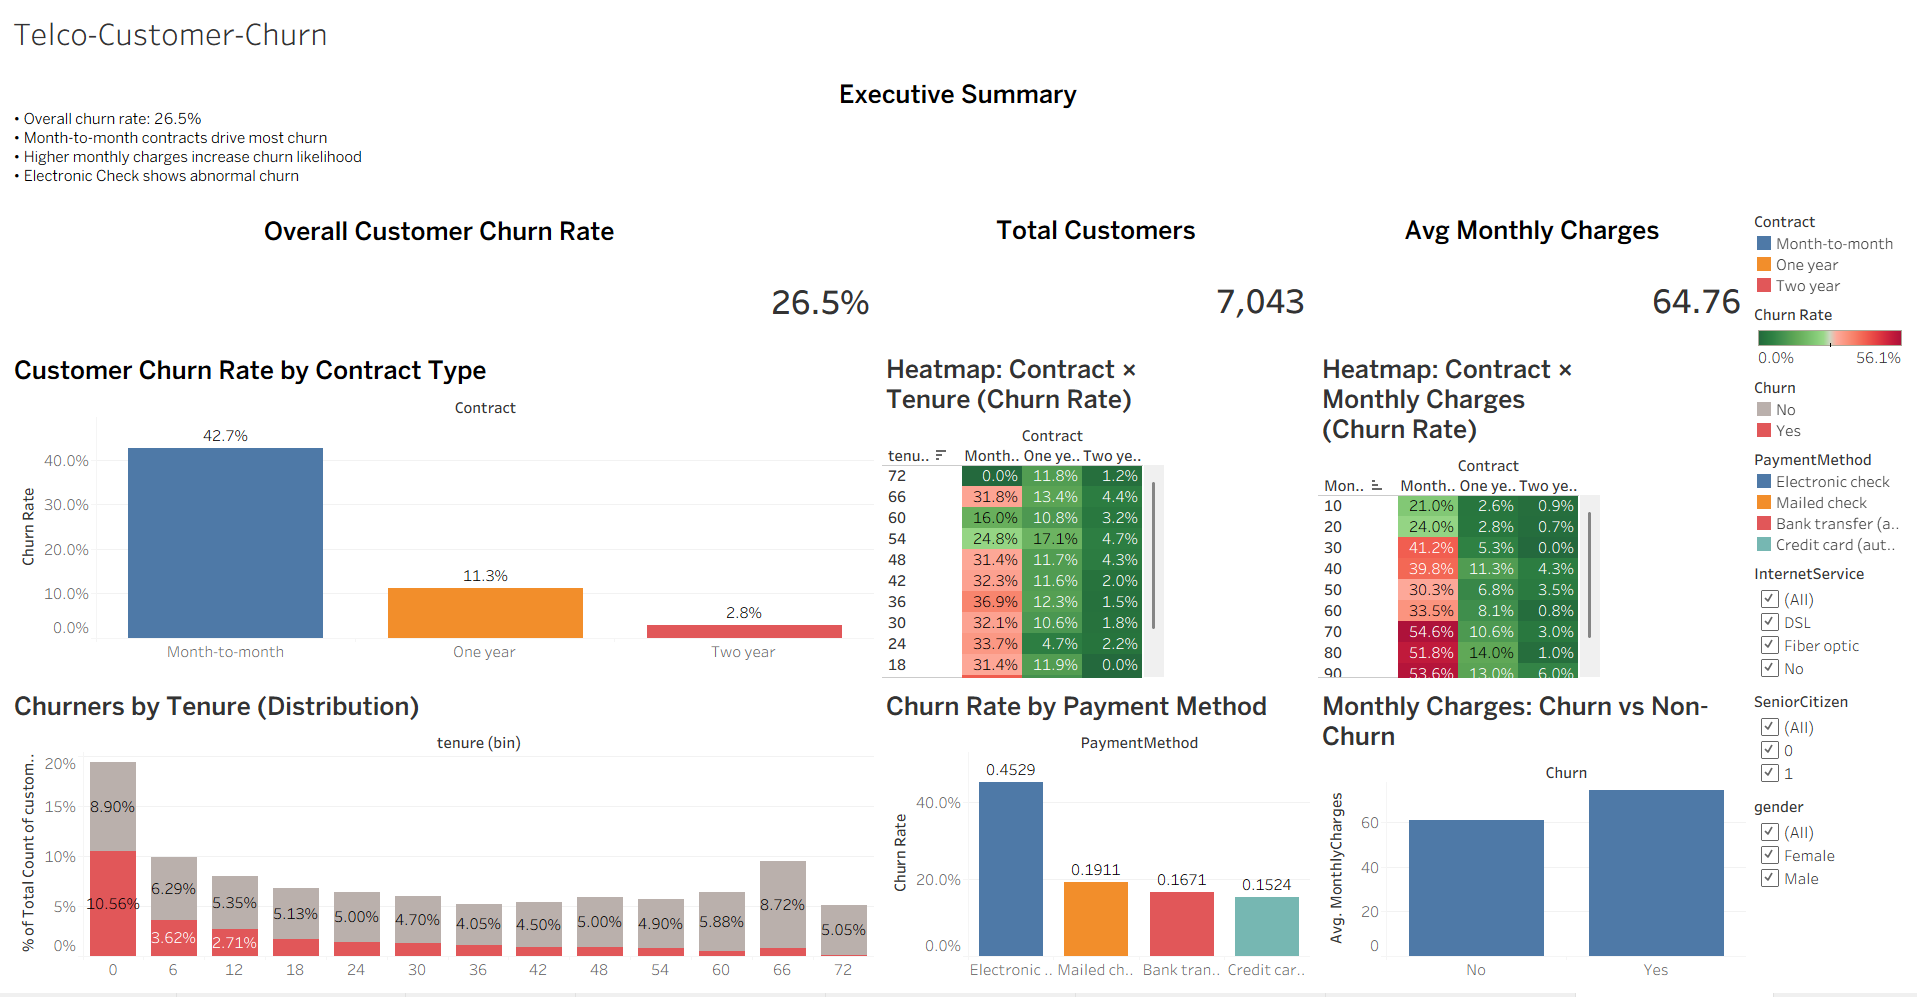

What the dashboard file says about the page in this screenshot:
{"tool":"tableau","page":{"name":"Telco-Customer-Churn","canvas":[1000,1000],"units":"permille","ordinal":0},"visuals":[{"type":"title","box":[4.8,10,990.3,62.4]},{"type":"text","box":[4.8,72.4,990.3,147.3]},{"type":"worksheet","title":"Overall Customer Churn Rate","mark":"Automatic","box":[4.8,219.7,446.9,138.3]},{"type":"worksheet","title":"Total Customers","mark":"Automatic","box":[451.7,219.7,223.4,138.3]},{"type":"worksheet","title":"Avg Monthly Charges","mark":"Automatic","box":[675.2,219.7,223.5,138.3]},{"type":"legend","title":"Churn Rate by Contract","param":"[federated.1b2qksb0qjrmqj1e6p0uq031gz32].[none:Contract:nk]","box":[898.6,219.7,96.6,116.1]},{"type":"legend","title":"Heatmap: Contract × Tenure (Churn Rate)","param":"[federated.1b2qksb0qjrmqj1e6p0uq031gz32].[usr:Calculation_0204810516328448:qk]","box":[898.6,335.8,96.6,91.1]},{"type":"worksheet","title":"Churn Rate by Contract","mark":"Automatic","rows":["Calculation_0204810516328448"],"cols":["Contract"],"box":[4.8,358,446.9,332.8]},{"type":"worksheet","title":"Heatmap: Contract × Tenure (Churn Rate)","mark":"Square","rows":["tenure (bin)"],"cols":["Contract"],"box":[451.7,358,223.4,332.8]},{"type":"worksheet","title":"Heatmap: Contract × Monthly Charges (Churn Rate)","mark":"Square","rows":["MonthlyCharges (bin)"],"cols":["Contract"],"box":[675.2,358,223.5,332.8]},{"type":"legend","title":"Churners by Tenure (Distribution)","param":"[federated.1b2qksb0qjrmqj1e6p0uq031gz32].[none:Churn:nk]","box":[898.6,427,96.6,89.9]},{"type":"legend","title":"Churn Rate by Payment Method","param":"[federated.1b2qksb0qjrmqj1e6p0uq031gz32].[none:PaymentMethod:nk]","box":[898.6,516.9,96.6,118.3]},{"type":"filter","title":"Churn Rate by Contract","param":"[federated.1b2qksb0qjrmqj1e6p0uq031gz32].[none:InternetService:nk]","box":[898.6,635.1,96.6,118.3]},{"type":"worksheet","title":"Churners by Tenure (Distribution)","mark":"Automatic","rows":["customerID"],"cols":["tenure (bin)"],"box":[4.8,690.8,446.9,299.3]},{"type":"worksheet","title":"Churn Rate by Payment Method","mark":"Automatic","rows":["Calculation_0204810516328448"],"cols":["PaymentMethod"],"box":[451.7,690.8,223.4,299.3]},{"type":"worksheet","title":"Monthly Charges: Churn vs Non-Churn","mark":"Automatic","rows":["MonthlyCharges"],"cols":["Churn"],"box":[675.2,690.8,223.5,299.3]},{"type":"filter","title":"Churn Rate by Contract","param":"[federated.1b2qksb0qjrmqj1e6p0uq031gz32].[none:SeniorCitizen:ok]","box":[898.6,753.4,96.6,118.3]},{"type":"filter","title":"Churn Rate by Contract","param":"[federated.1b2qksb0qjrmqj1e6p0uq031gz32].[none:gender:nk]","box":[898.6,871.7,96.6,118.3]}]}

Visuals, with their boxes on the dashboard's canvas, which has no fixed pixel size, in thousandths of its width and height (x1, y1, x2, y2). These are canvas units, not pixel positions in the 1917x997 screenshot, which may show the page scaled, cropped or inside an application window:
title: [left=5, top=10, right=995, bottom=72]
text: [left=5, top=72, right=995, bottom=220]
"Overall Customer Churn Rate" worksheet: [left=5, top=220, right=452, bottom=358]
"Total Customers" worksheet: [left=452, top=220, right=675, bottom=358]
"Avg Monthly Charges" worksheet: [left=675, top=220, right=899, bottom=358]
"Churn Rate by Contract" legend: [left=899, top=220, right=995, bottom=336]
"Heatmap: Contract × Tenure (Churn Rate)" legend: [left=899, top=336, right=995, bottom=427]
"Churn Rate by Contract" worksheet: [left=5, top=358, right=452, bottom=691]
"Heatmap: Contract × Tenure (Churn Rate)" worksheet (Square marks): [left=452, top=358, right=675, bottom=691]
"Heatmap: Contract × Monthly Charges (Churn Rate)" worksheet (Square marks): [left=675, top=358, right=899, bottom=691]
"Churners by Tenure (Distribution)" legend: [left=899, top=427, right=995, bottom=517]
"Churn Rate by Payment Method" legend: [left=899, top=517, right=995, bottom=635]
"Churn Rate by Contract" filter: [left=899, top=635, right=995, bottom=753]
"Churners by Tenure (Distribution)" worksheet: [left=5, top=691, right=452, bottom=990]
"Churn Rate by Payment Method" worksheet: [left=452, top=691, right=675, bottom=990]
"Monthly Charges: Churn vs Non-Churn" worksheet: [left=675, top=691, right=899, bottom=990]
"Churn Rate by Contract" filter: [left=899, top=753, right=995, bottom=872]
"Churn Rate by Contract" filter: [left=899, top=872, right=995, bottom=990]
